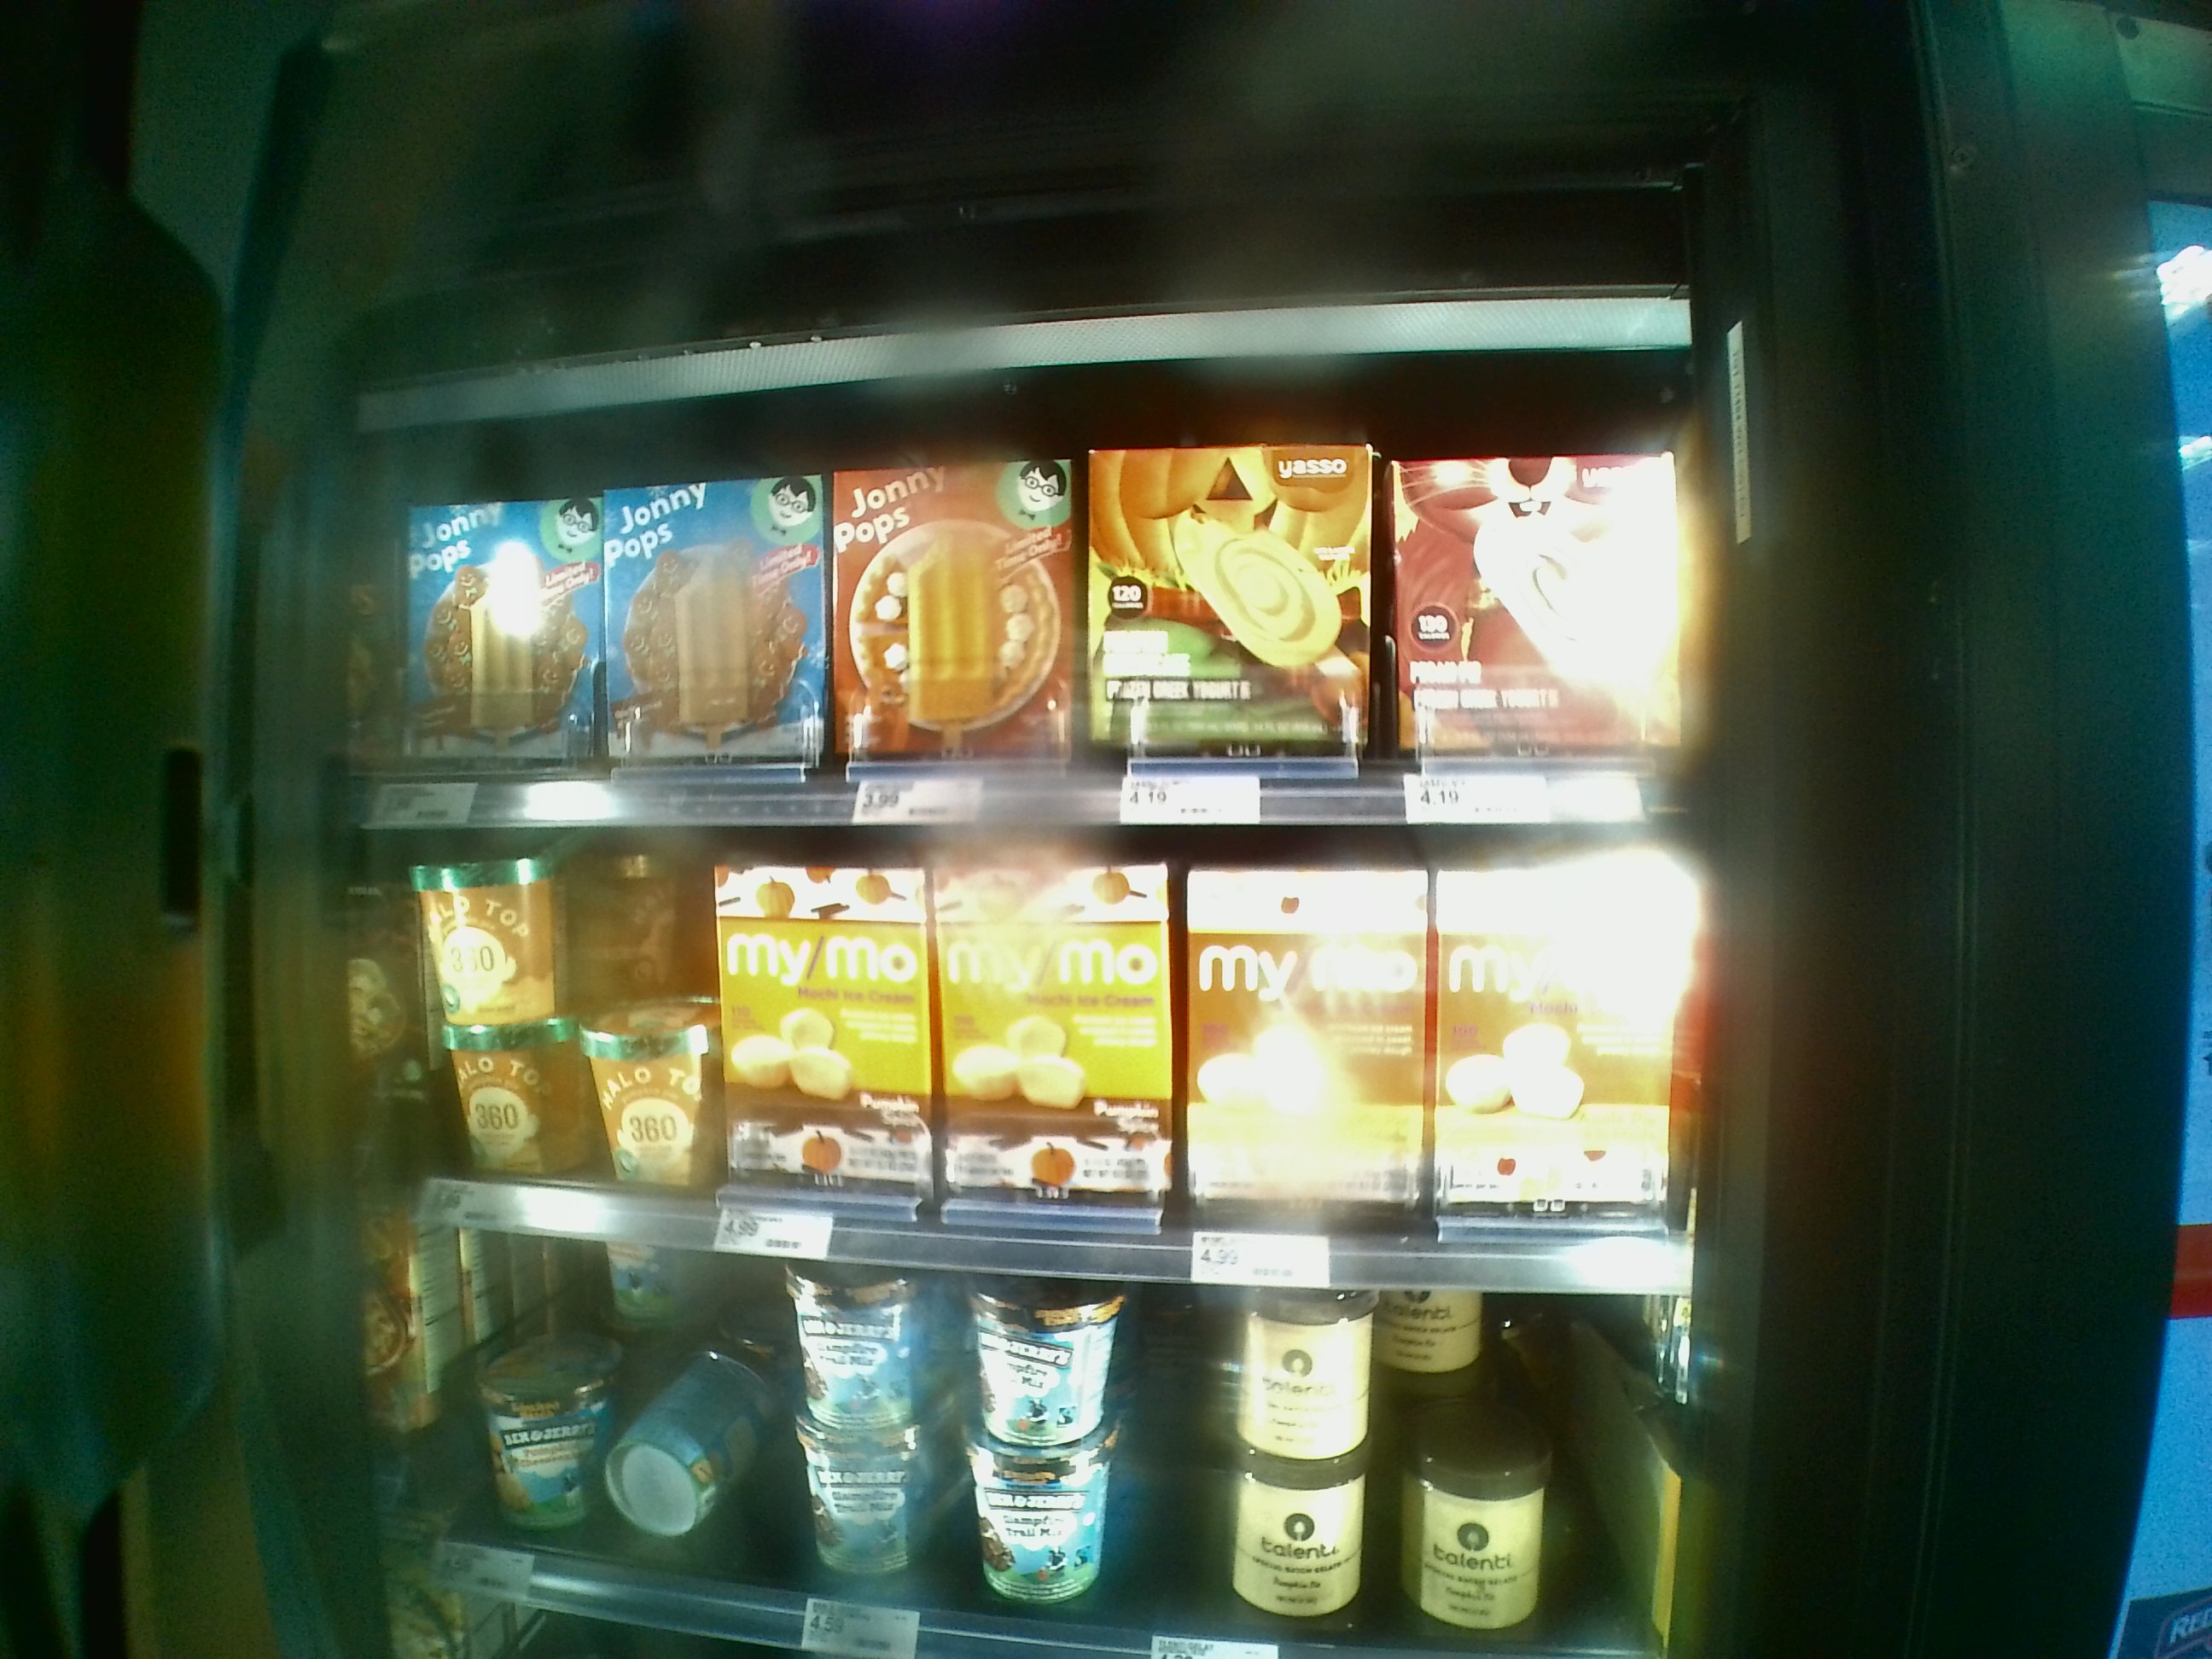shelf: (317, 803, 1719, 1298), (347, 416, 1705, 843)
